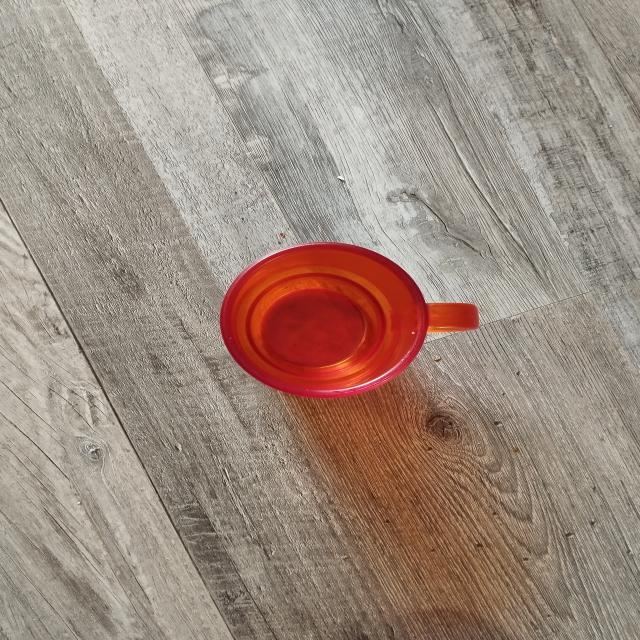Cup: (196, 234, 494, 442)
